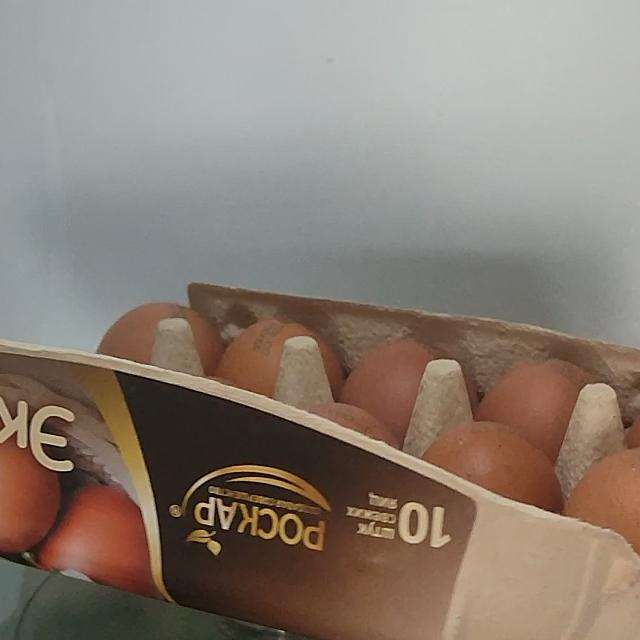egg: (0, 236, 640, 640)
